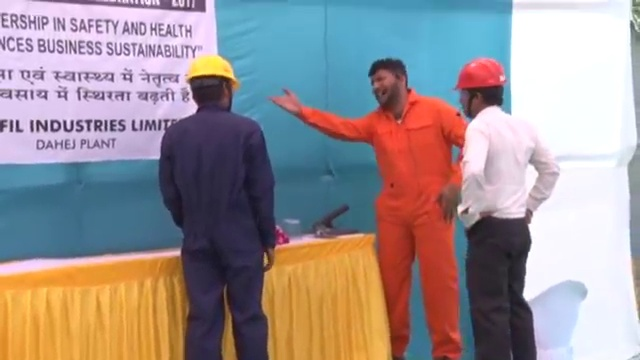helmet: (185, 54, 241, 92), (451, 57, 508, 92)
helmet_off: (367, 58, 411, 107)
helmet_on: (449, 57, 509, 119), (184, 52, 242, 115)
person: (268, 52, 471, 360), (157, 52, 277, 360), (449, 55, 560, 360)
